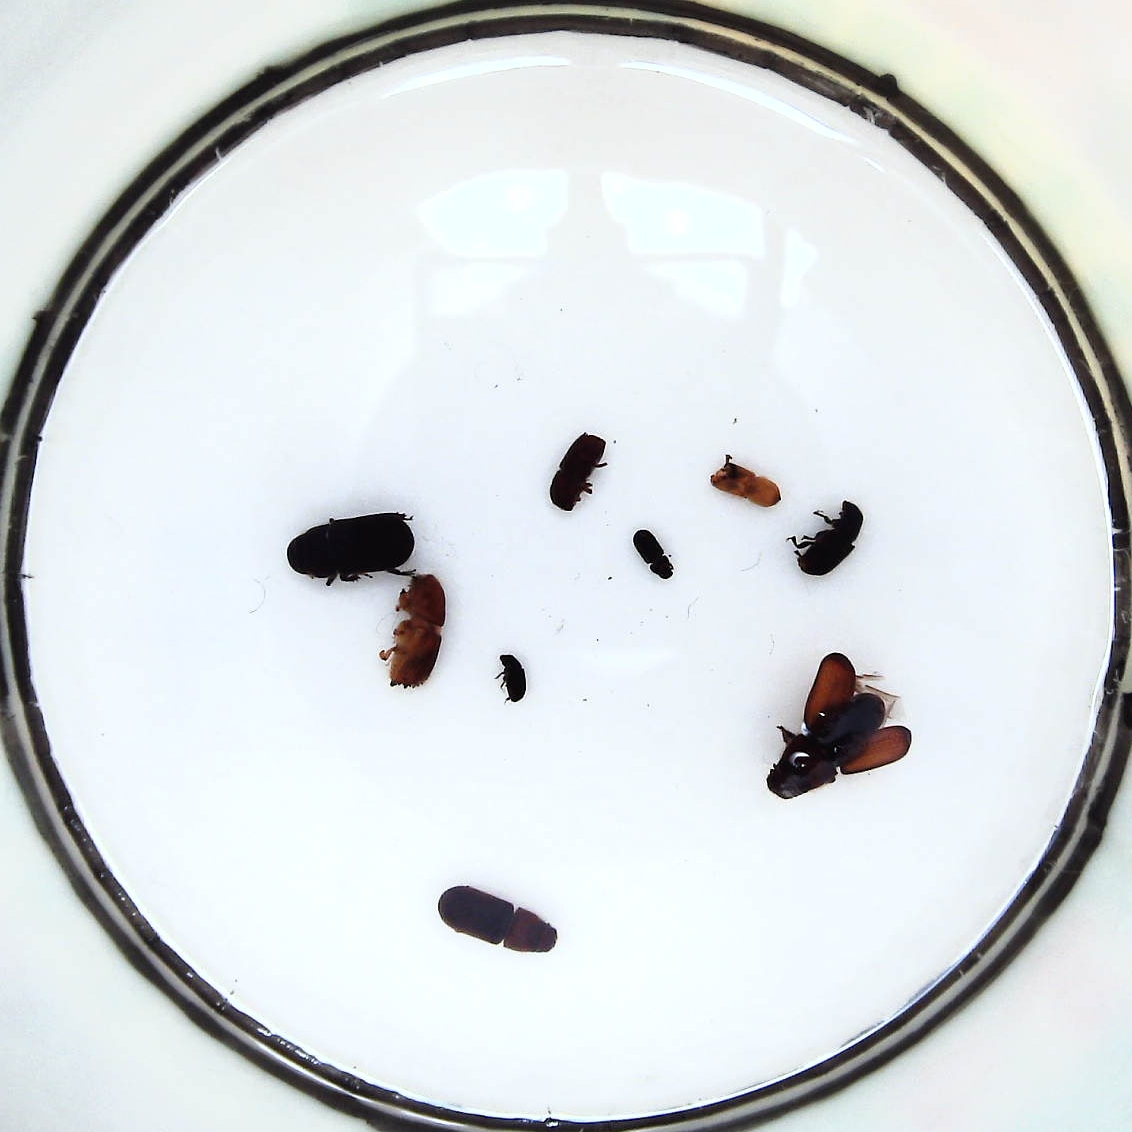Boerner: (383, 575, 446, 690)
Leconte: (766, 654, 911, 801), (287, 512, 414, 579), (438, 885, 557, 952)
acuminatus: (633, 529, 671, 579), (498, 653, 525, 702)
armandi: (796, 499, 862, 575)
coleoptera: (710, 463, 780, 507)
linnaeus: (550, 432, 605, 509)
